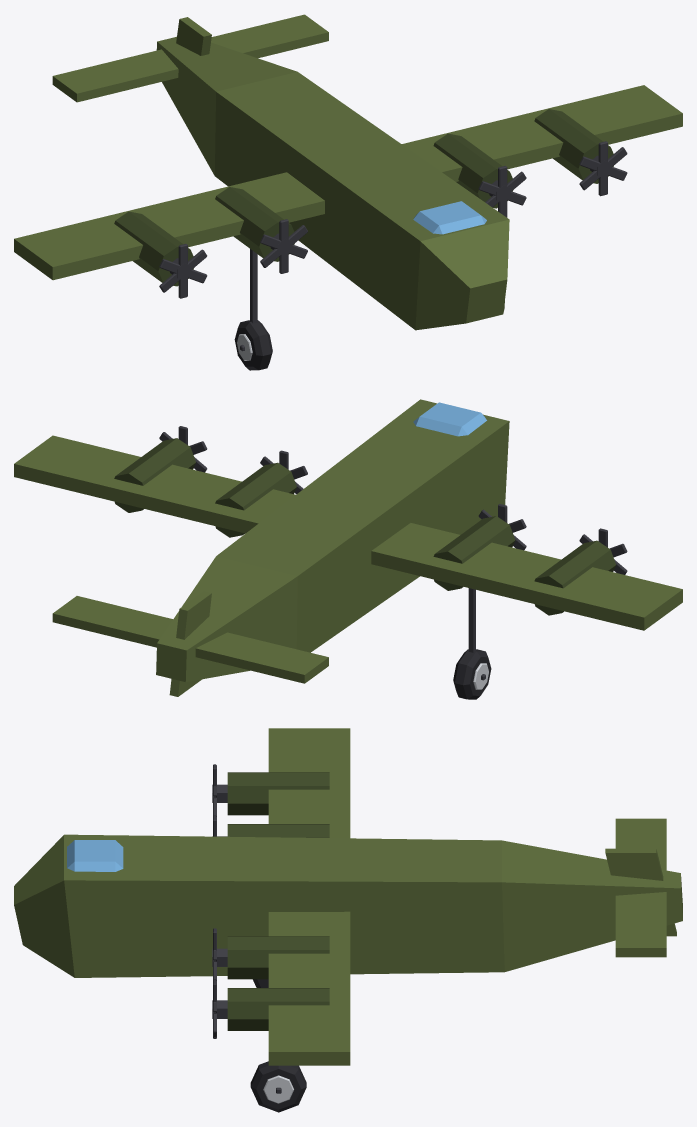
File: Bomber.fbx
The picture shows the model from 3 angles, top to bottom: view 1: azimuth 30°, elevation 25°; view 2: azimuth 150°, elevation 25°; view 3: azimuth 270°, elevation 25°; orthographic projection. The views are drawn at different scales.
Parts seen in each view (by area): view 1: Bomber, Bomber_WheelR, Bomber_PropR1, Bomber_PropL1, Bomber_PropR0, Bomber_PropL0; view 2: Bomber, Bomber_WheelR, Bomber_PropR0, Bomber_PropR1, Bomber_PropL1, Bomber_PropL0; view 3: Bomber, Bomber_WheelL.
Part boxes in pixels (bbox=[...]): Bomber: bbox=[14, 14, 682, 330]; Bomber_WheelR: bbox=[234, 320, 272, 370]; Bomber_PropR1: bbox=[159, 243, 207, 298]; Bomber_PropL1: bbox=[579, 141, 627, 196]; Bomber_PropR0: bbox=[260, 219, 307, 273]; Bomber_PropL0: bbox=[478, 165, 526, 217]; Bomber: bbox=[14, 399, 682, 696]; Bomber_WheelR: bbox=[453, 649, 491, 699]; Bomber_PropR0: bbox=[478, 504, 526, 550]; Bomber_PropR1: bbox=[579, 528, 627, 574]; Bomber_PropL1: bbox=[159, 426, 207, 472]; Bomber_PropL0: bbox=[260, 450, 307, 494]; Bomber: bbox=[14, 728, 682, 1065]; Bomber_WheelL: bbox=[250, 1061, 306, 1112].
Size of the model in its own units: 15 by 4.4 by 13.11.
Materials: 1 (1 with a texture image).
